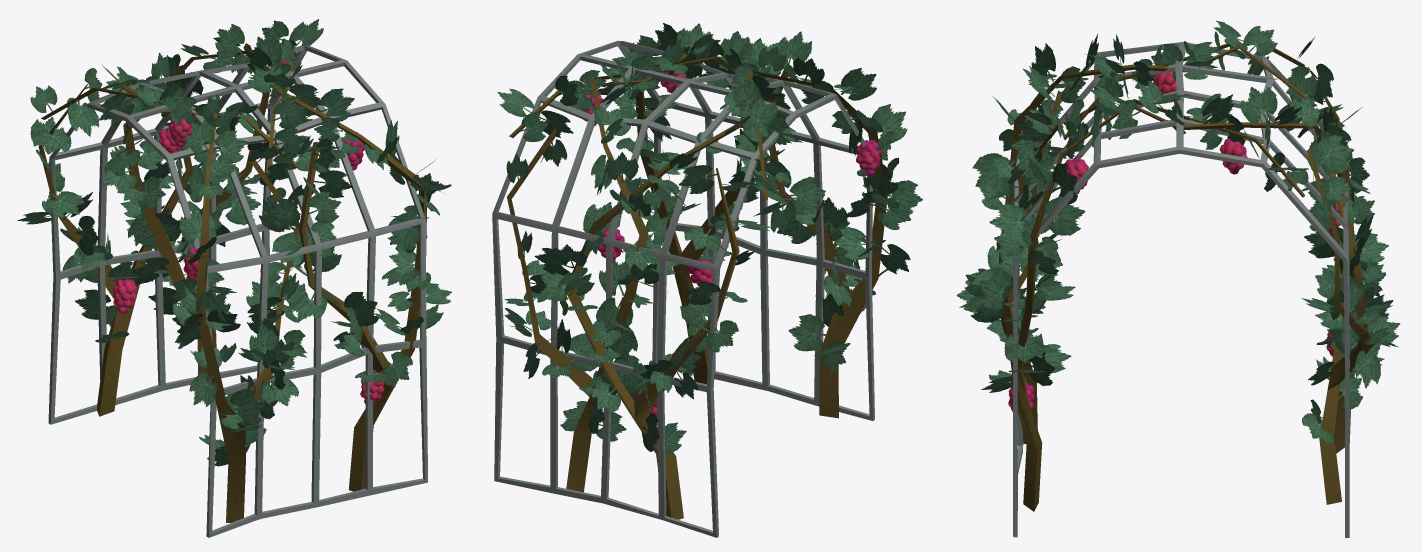
Rendered from grape_arbor.obj.
3 views of the same model, side by side, from view 1: azimuth 30°, elevation 25°; view 2: azimuth 150°, elevation 25°; view 3: azimuth 270°, elevation 25° (orthographic). The views are drawn at different scales.
Parts seen in each view (by area): view 1: grape_arbor_grape_arbor_mesh; view 2: grape_arbor_grape_arbor_mesh; view 3: grape_arbor_grape_arbor_mesh.
Part boxes in pixels (left/top/right/bottom): grape_arbor_grape_arbor_mesh: left=17, top=19, right=451, bottom=537; grape_arbor_grape_arbor_mesh: left=492, top=23, right=922, bottom=537; grape_arbor_grape_arbor_mesh: left=956, top=20, right=1400, bottom=537.
Size of the model in its own units: 15.95 by 20.52 by 19.89.
Materials: 4 (4 with a texture image).
